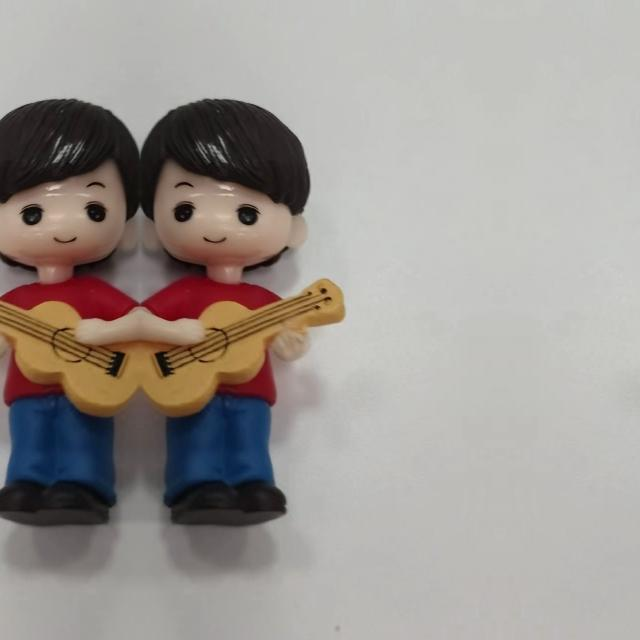man cloth: (140, 280, 334, 408), (0, 280, 140, 407)
man head: (140, 100, 318, 276), (0, 100, 140, 276)
trousers: (158, 392, 304, 532), (0, 391, 121, 532)
